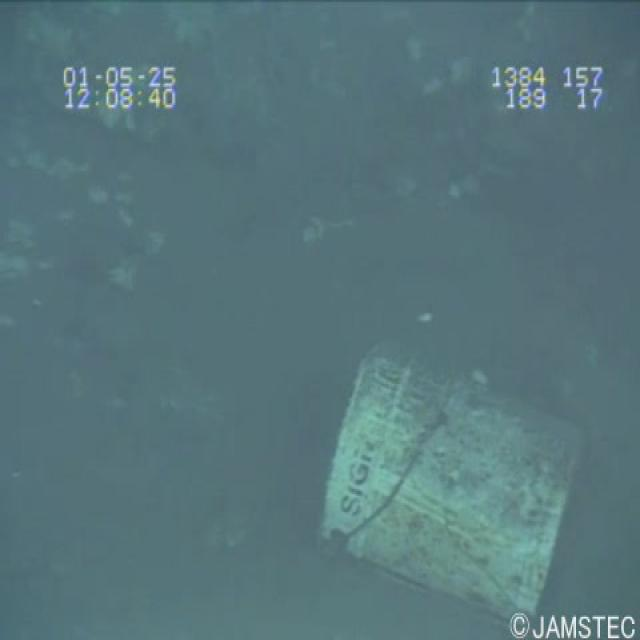plastic: (299, 327, 588, 628)
